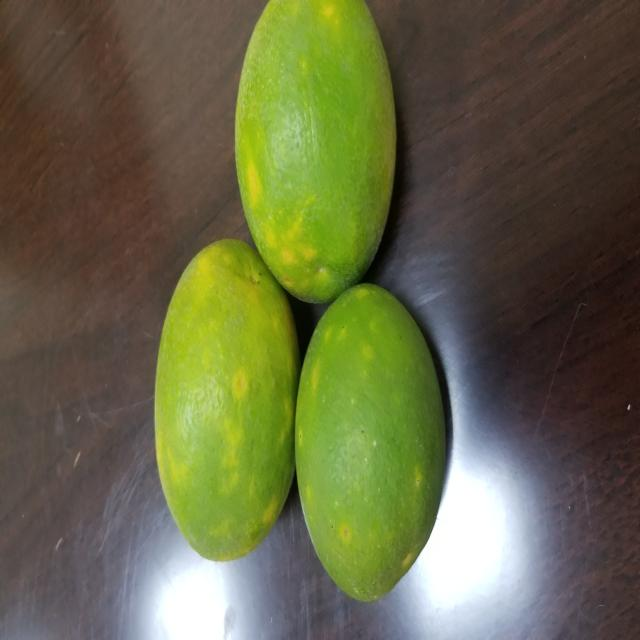Ripe orange: (290, 264, 459, 614), (234, 0, 428, 304), (151, 238, 300, 565)
